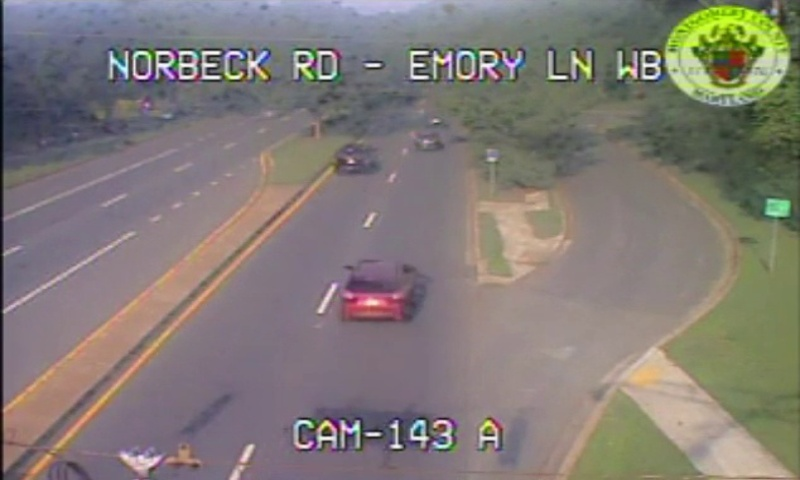car: (341, 261, 412, 318), (336, 145, 374, 170)
